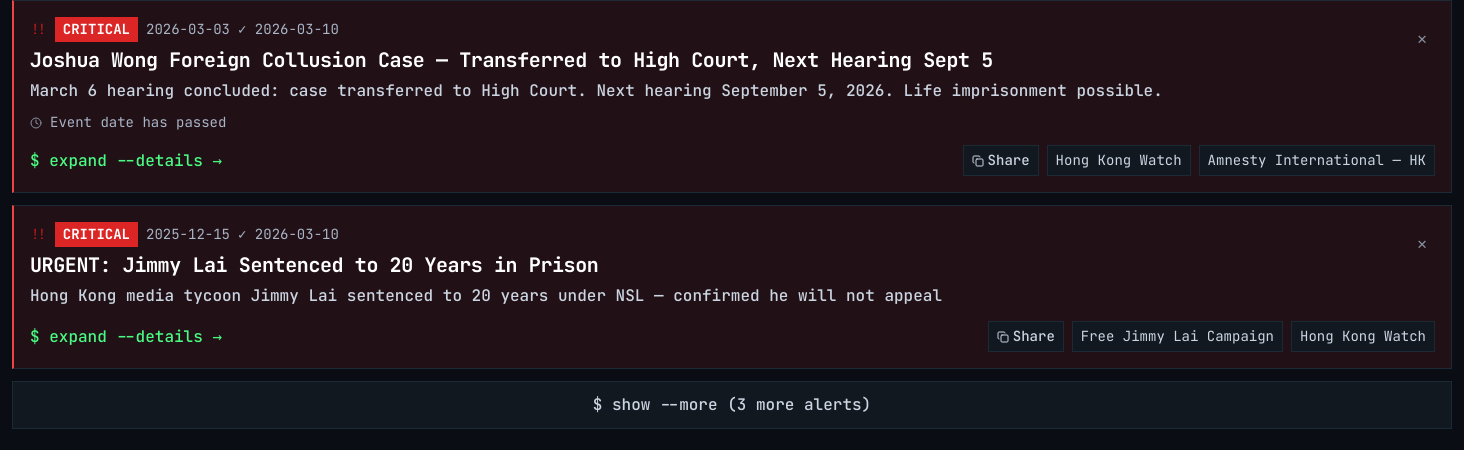
Test: EmergencyAlerts › dismiss button removes an alert
Check: the heading "Joshua Wong Foreign Collusion Case" is shown, box 30,47 -> 993,73
# Click dismiss on first alert
Click the button named "Dismiss alert" at (1422, 39), box 1409,17 -> 1435,60
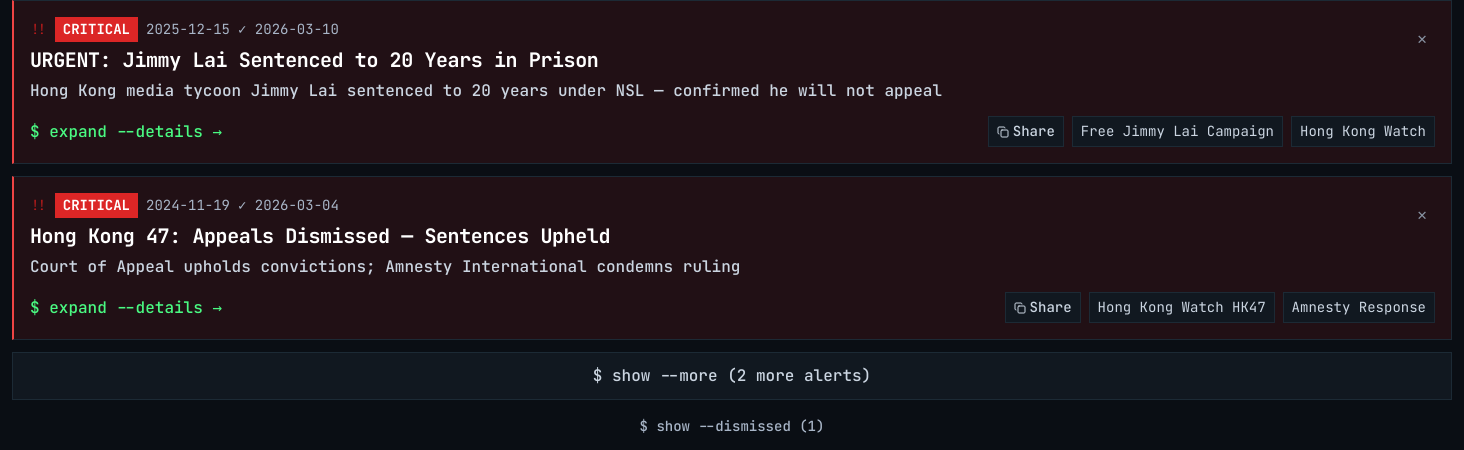
Check: the heading "Joshua Wong Foreign Collusion Case" is gone
